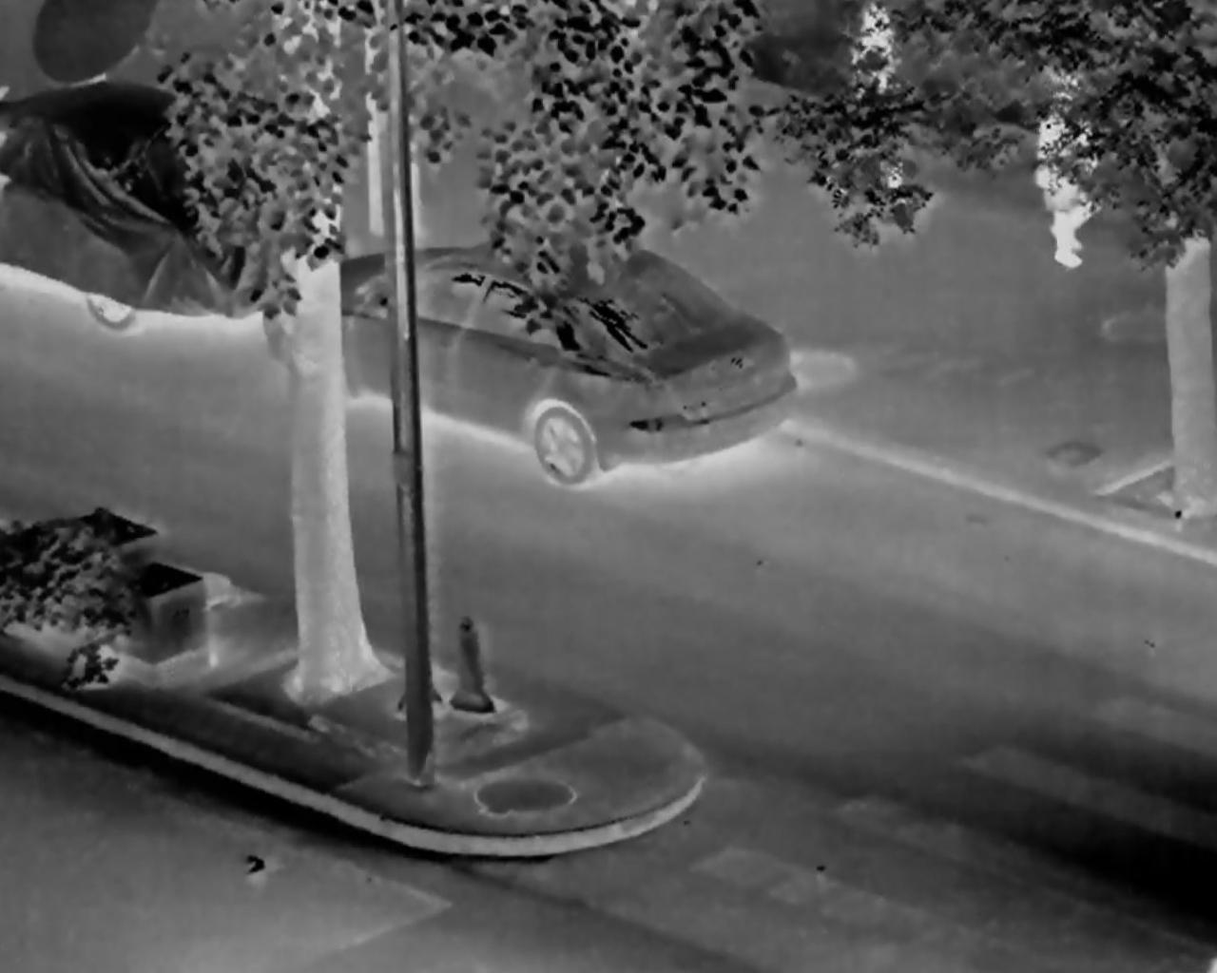person: (1033, 72, 1099, 265), (841, 4, 902, 142)
